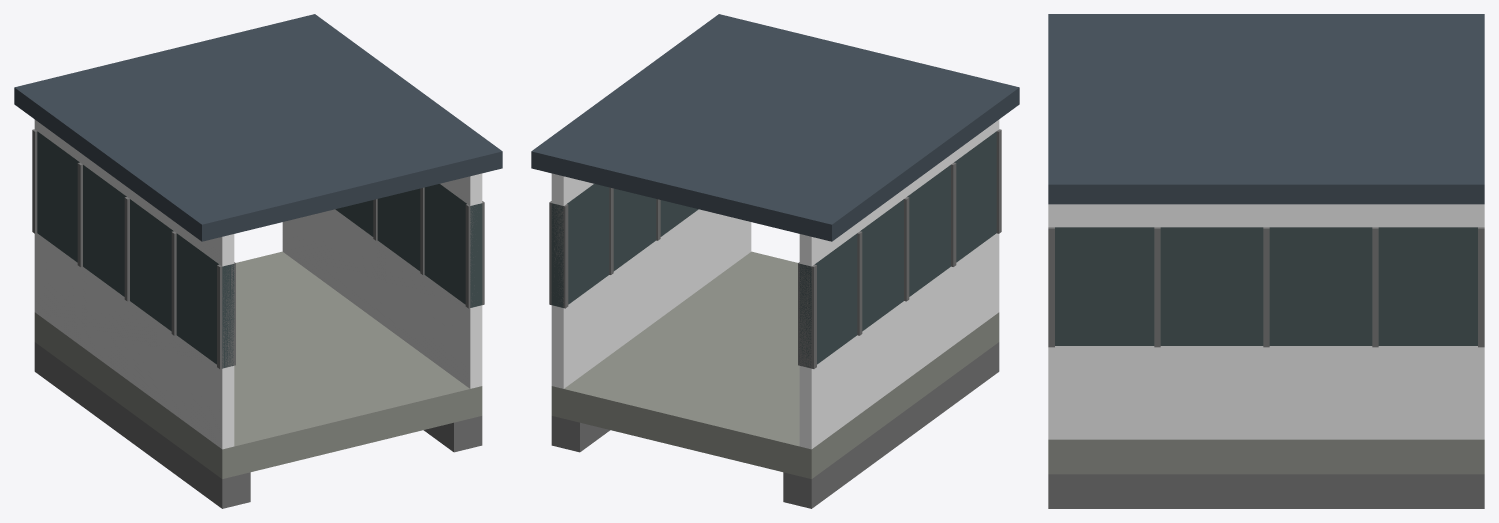
The model's file is body.fbx.
3 views of the same model, side by side, from view 1: azimuth 30°, elevation 25°; view 2: azimuth 150°, elevation 25°; view 3: azimuth 270°, elevation 25° (orthographic). The views are drawn at different scales.
Visible parts, largest first — view 1: p2001.bridge; view 2: p2001.bridge; view 3: p2001.bridge.
Boxes of the visible parts, x1,y1,x2,y2 form: p2001.bridge: (14,14,502,508); p2001.bridge: (531,14,1019,508); p2001.bridge: (1048,14,1484,508).
Size of the model in its own units: 3.7 by 3.4 by 4.
